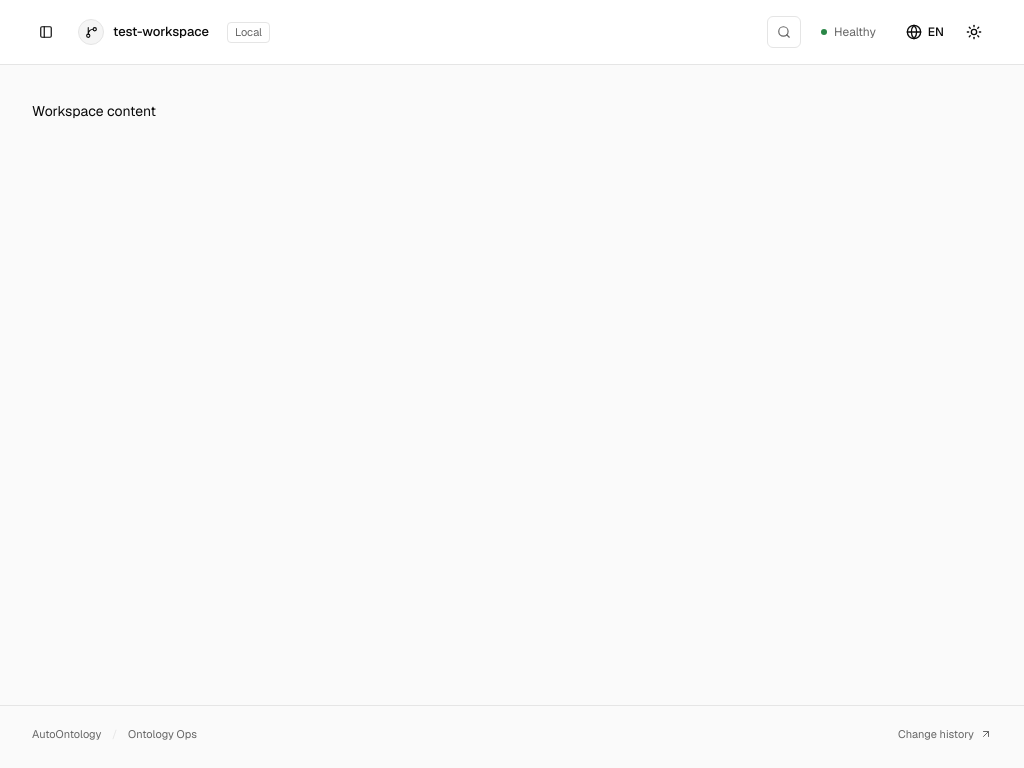
Test: opens quick navigation from the visible search and follows the chosen page
Step 1. Click the button named "Go to" → [784, 32], box [767, 16, 801, 48]
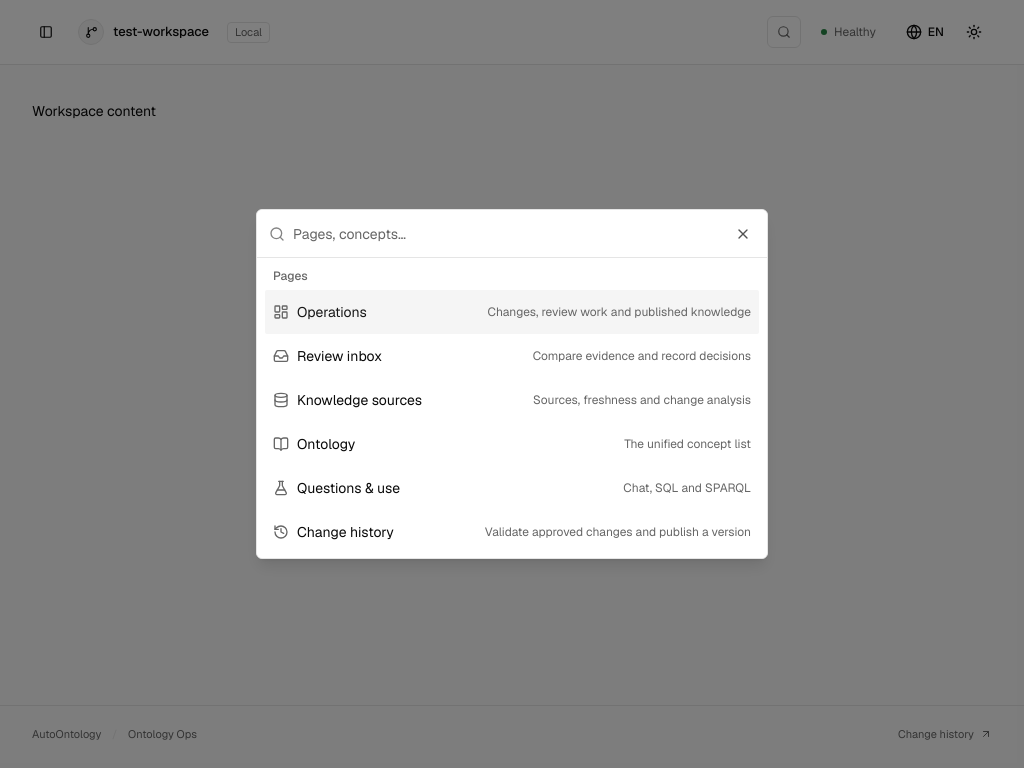
Step 2. Click the option "Knowledge sources Sources, freshness and change analysis" → [360, 400], box [273, 391, 751, 409]
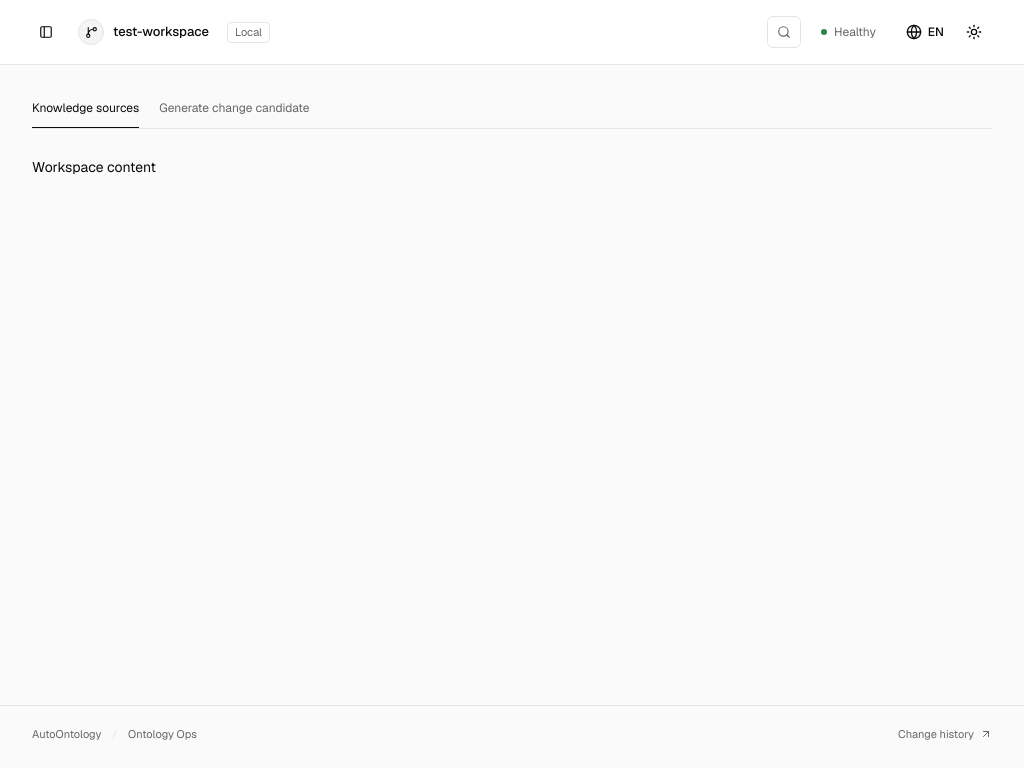
Result: the dialog is gone
